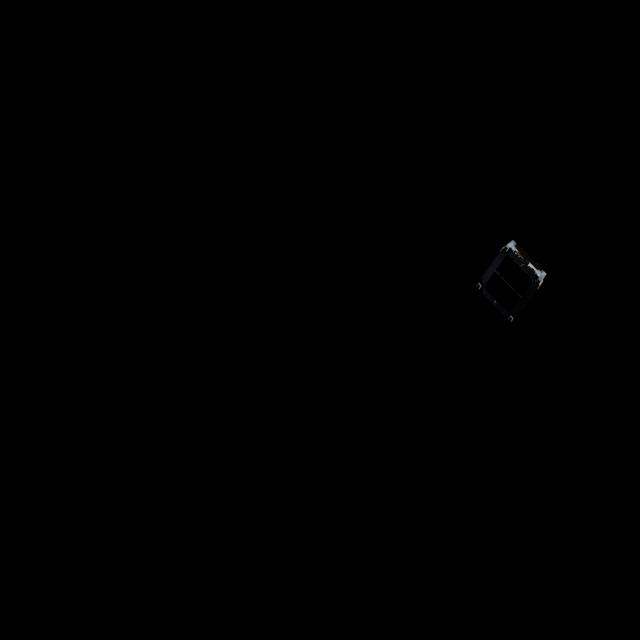satellite: (476, 231, 553, 331)
